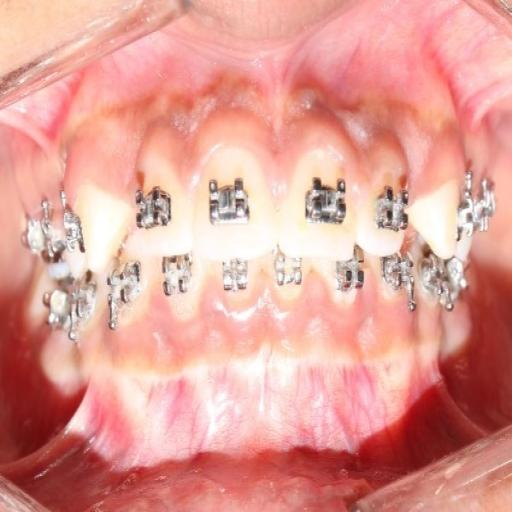correct_brace: (204, 173, 252, 230), (298, 180, 352, 226), (134, 184, 171, 232), (377, 185, 409, 234), (449, 193, 478, 243), (64, 206, 82, 252)
incorrect_brace: (130, 157, 188, 255), (355, 174, 405, 256)
